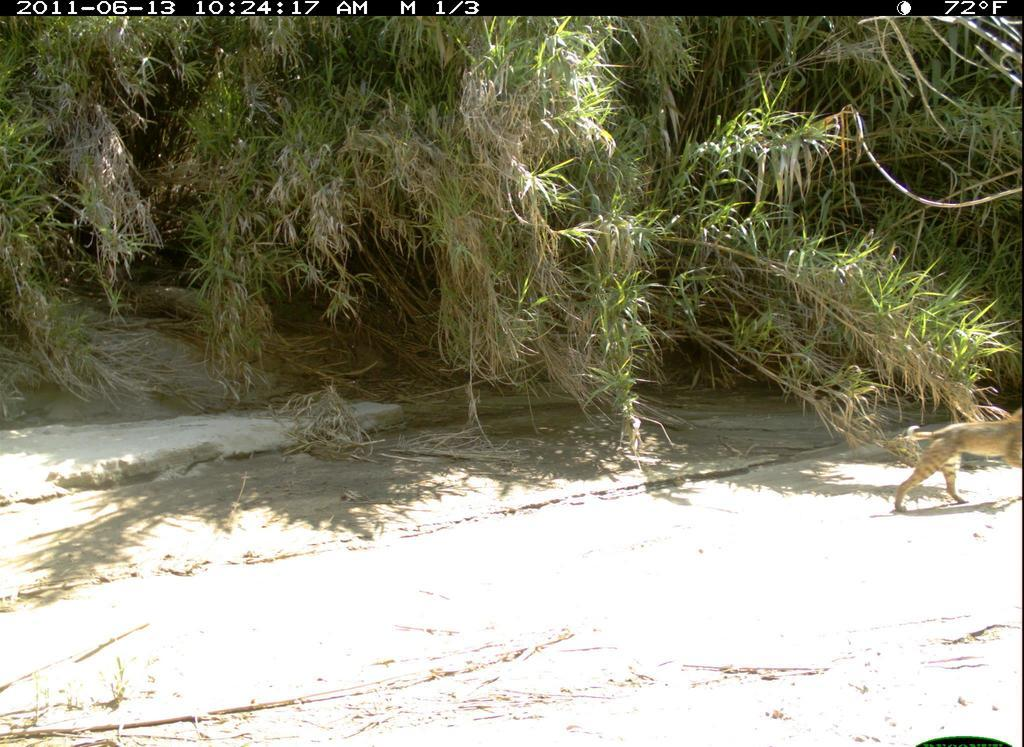bobcat: (890, 382, 1019, 514)
